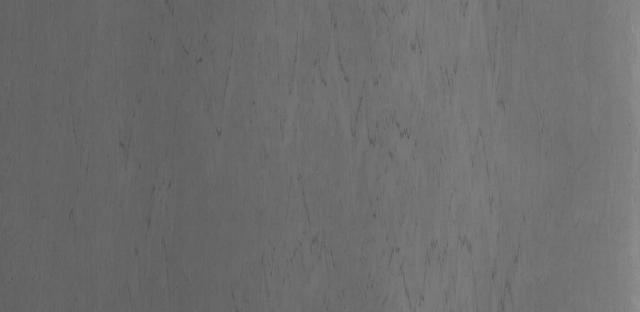silk_spot: (252, 34, 468, 260)
